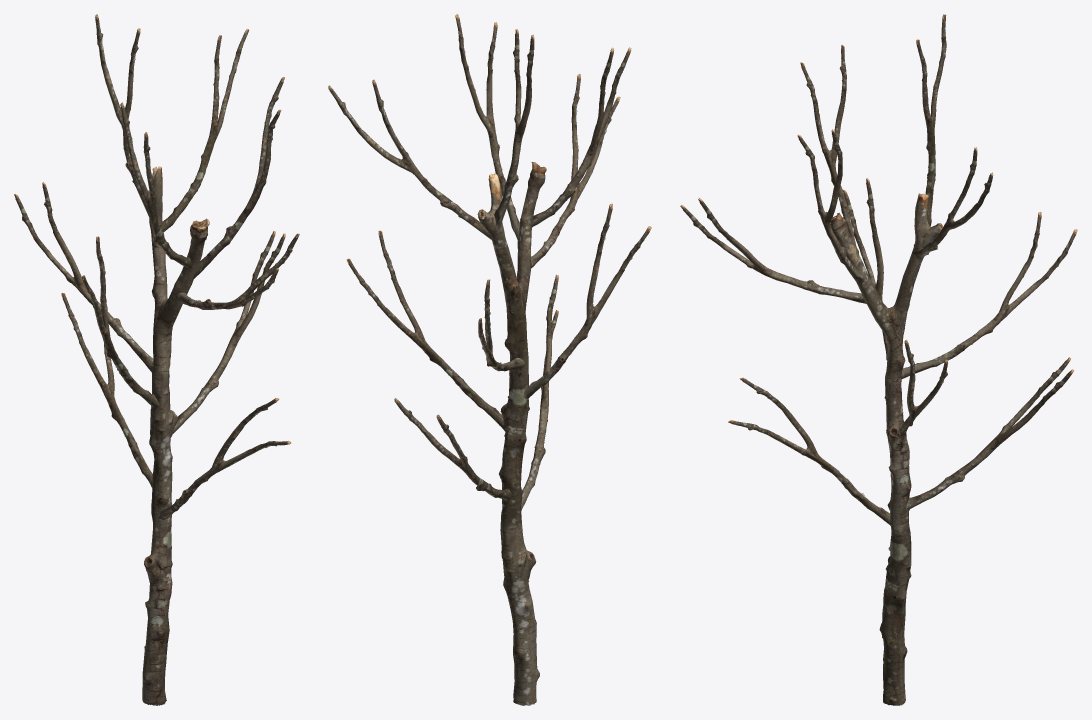
File: Arboles.fbx
3 renders of one model, left to right at view 1: azimuth 30°, elevation 25°; view 2: azimuth 150°, elevation 25°; view 3: azimuth 270°, elevation 25°, orthographic. The views are drawn at different scales.
Parts seen in each view (by area): view 1: LOD0; view 2: LOD0; view 3: LOD0.
Boxes of the visible parts, x1=… form: LOD0: x1=14, y1=14, x2=299, y2=705; LOD0: x1=328, y1=14, x2=651, y2=705; LOD0: x1=680, y1=14, x2=1077, y2=705.
Size of the model in its own units: 2.68 by 7.05 by 3.78.
